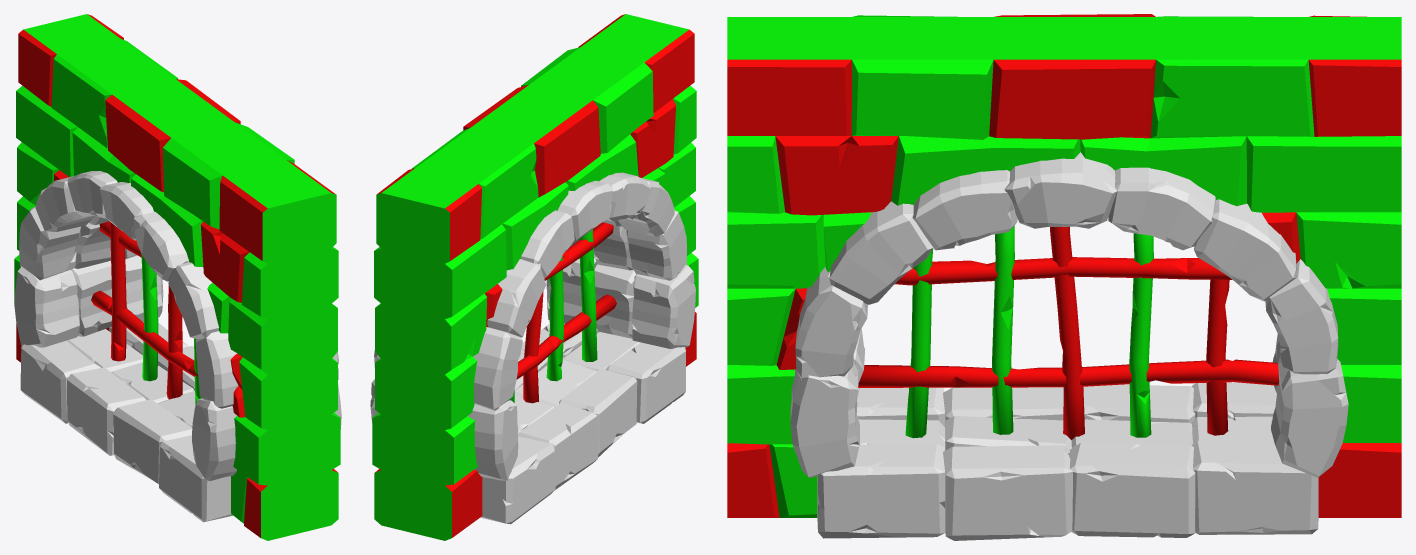
File: SM_Wall_1_2_3.fbx
3 views of the same model, side by side, from view 1: azimuth 30°, elevation 25°; view 2: azimuth 150°, elevation 25°; view 3: azimuth 270°, elevation 25° (orthographic). The views are drawn at different scales.
Visible parts, largest first — view 1: Mesh; view 2: Mesh; view 3: Mesh.
Boxes of the visible parts, x1,y1,x2,y2 form: Mesh: [14, 14, 341, 540]; Mesh: [370, 14, 698, 540]; Mesh: [727, 14, 1401, 540].
Bounding box in the file's own units: 129 × 300 × 400.
